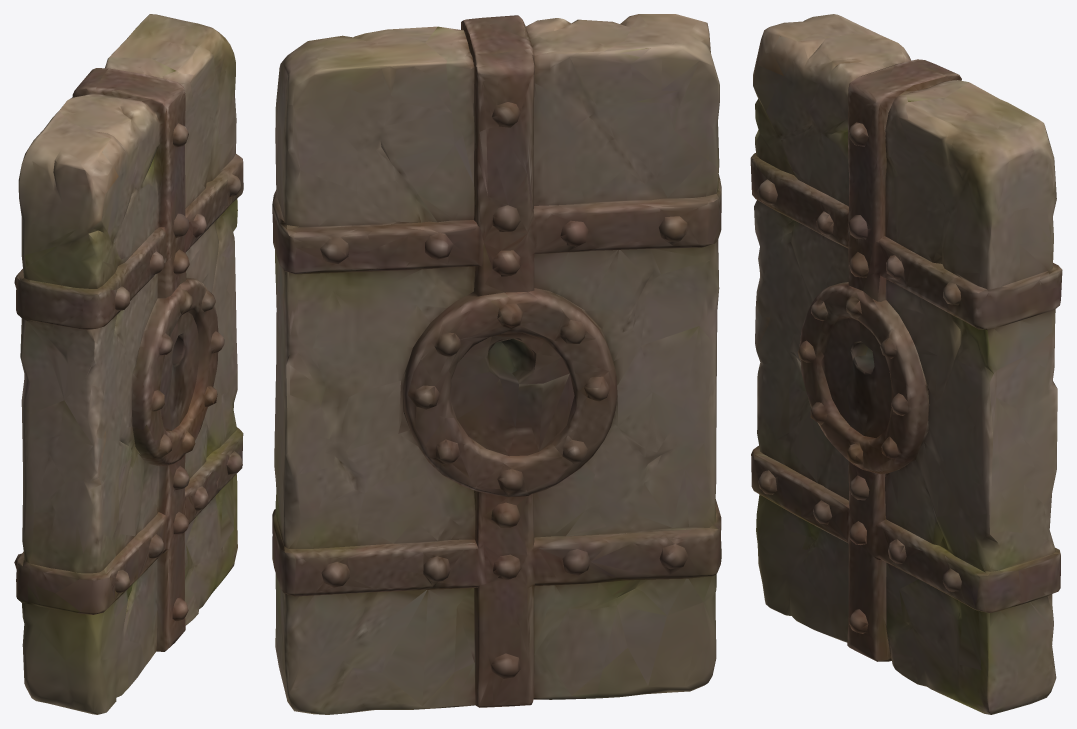
Rendered from puerta_llave_hoja_6000.glb.
The picture shows the model from 3 angles, left to right: view 1: azimuth 30°, elevation 25°; view 2: azimuth 150°, elevation 25°; view 3: azimuth 270°, elevation 25°; orthographic projection. The views are drawn at different scales.
Parts seen in each view (by area): view 1: puerta_llave_hoja_malla; view 2: puerta_llave_hoja_malla; view 3: puerta_llave_hoja_malla.
Part boxes in pixels (x1=…): puerta_llave_hoja_malla: x1=14, y1=14, x2=243, y2=714; puerta_llave_hoja_malla: x1=272, y1=14, x2=721, y2=714; puerta_llave_hoja_malla: x1=750, y1=14, x2=1062, y2=714.
Size of the model in its own units: 0.1984 by 0.3526 by 0.1728.
1 material, 1 textured.
